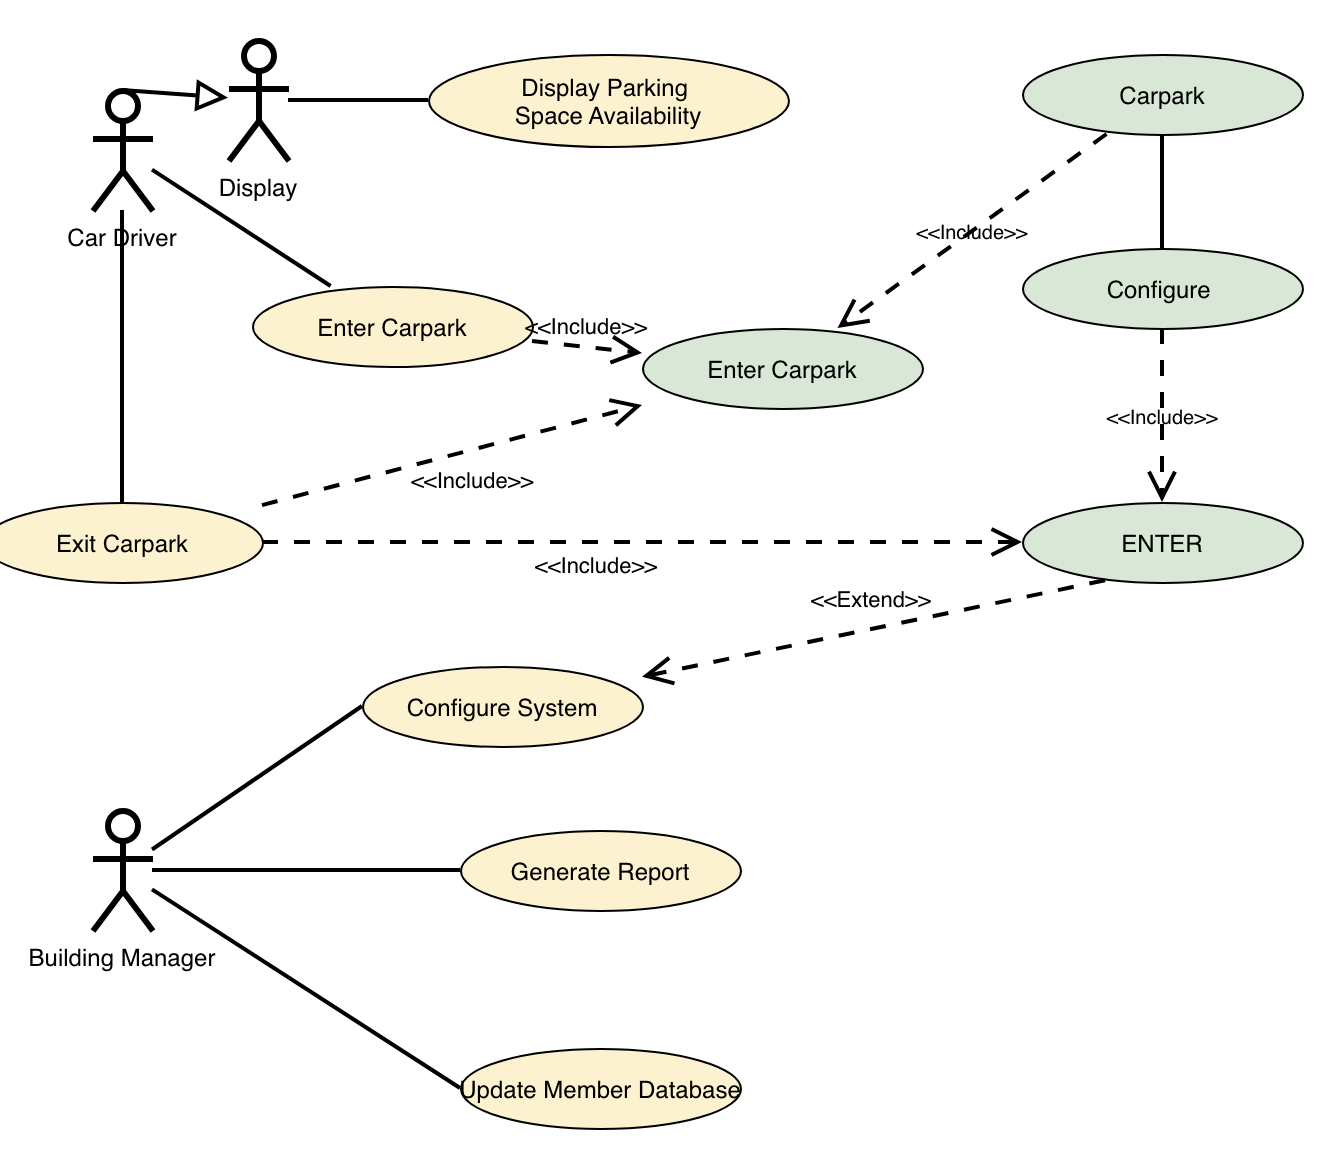actor: (86, 86, 164, 218), (84, 806, 161, 935), (225, 34, 292, 163)
association: (150, 883, 461, 1089), (836, 131, 1111, 328), (644, 578, 1104, 689), (261, 394, 640, 506), (152, 703, 360, 852), (273, 524, 1020, 561), (150, 163, 335, 289), (103, 211, 144, 499), (153, 851, 460, 887), (1143, 331, 1180, 499), (527, 324, 642, 367), (288, 84, 426, 117), (1146, 136, 1179, 247), (128, 77, 228, 111)
text: (501, 70, 709, 134), (22, 938, 224, 981), (400, 689, 610, 724), (302, 310, 481, 350), (456, 1077, 740, 1102), (693, 351, 866, 390), (506, 856, 702, 890), (47, 522, 202, 563), (1094, 270, 1223, 310), (523, 549, 669, 585), (1104, 522, 1224, 562), (907, 216, 1046, 247), (804, 580, 932, 613), (409, 467, 546, 497), (62, 222, 183, 255), (1097, 403, 1222, 434), (212, 170, 309, 209), (1111, 77, 1212, 114), (525, 312, 652, 337)
use_case: (426, 51, 791, 152), (1022, 50, 1306, 138), (1020, 245, 1305, 331), (1022, 499, 1307, 586), (459, 828, 744, 914), (640, 326, 924, 412), (363, 664, 646, 750), (460, 1045, 742, 1132), (250, 285, 533, 370), (2, 499, 265, 586)
